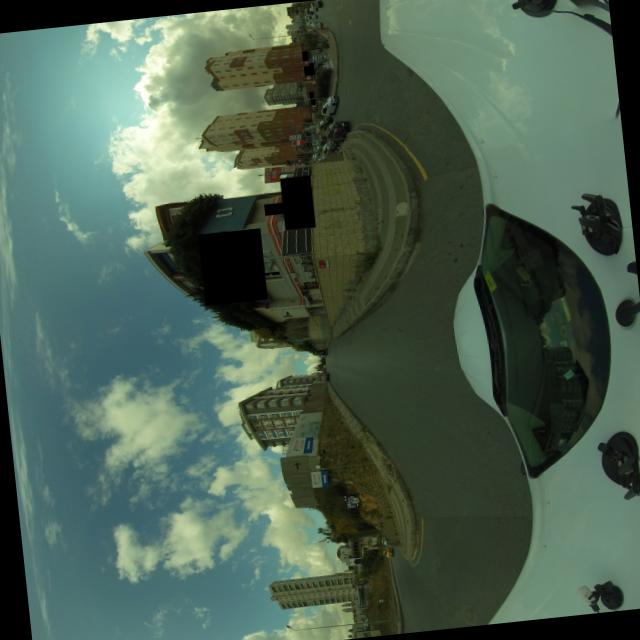SignStore: (198, 231, 267, 300), (284, 174, 314, 229), (264, 202, 284, 214), (309, 61, 315, 74), (303, 64, 310, 75), (301, 49, 308, 60), (309, 90, 314, 97), (310, 97, 315, 104)
